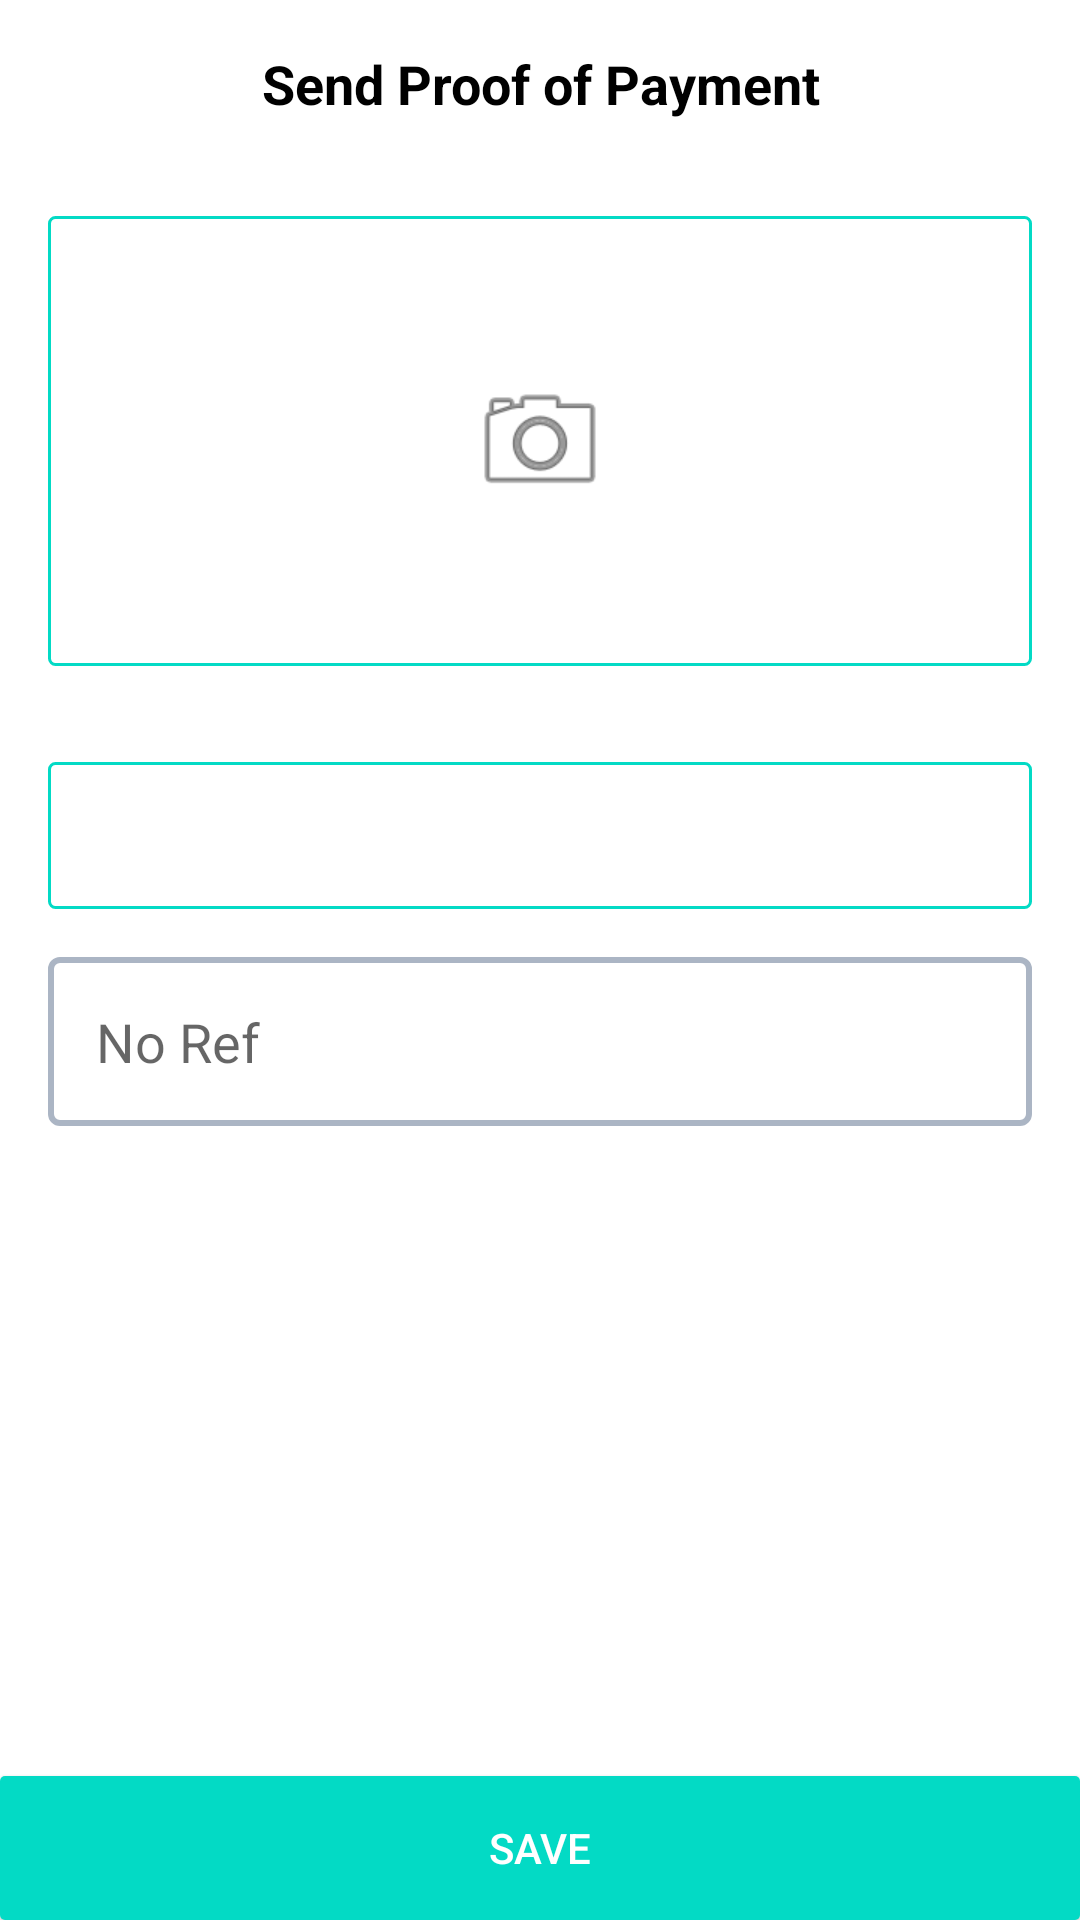

Icons on this 1080 × 1920 Android screen, each with the point to tap as [x,y]:
camera: [540,438]
